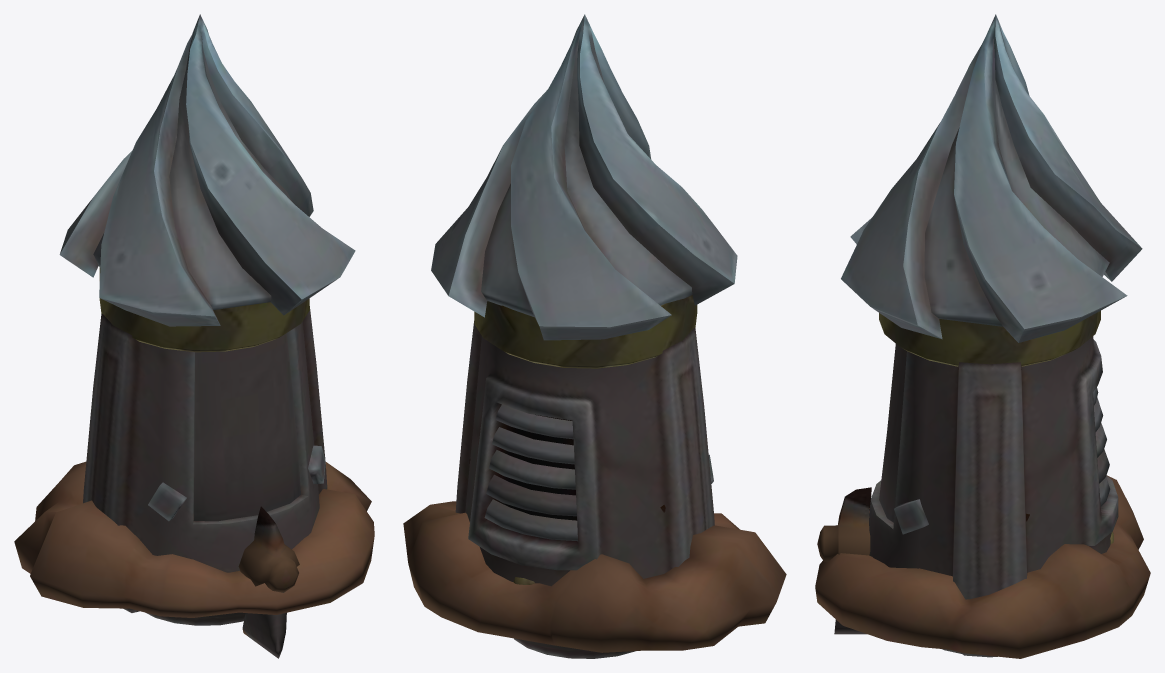
Rendered from dark-iron-miner.glb.
3 views of the same model, side by side, from view 1: azimuth 30°, elevation 25°; view 2: azimuth 150°, elevation 25°; view 3: azimuth 270°, elevation 25° (orthographic). The views are drawn at different scales.
Parts seen in each view (by area): view 1: dark-iron-miner; view 2: dark-iron-miner; view 3: dark-iron-miner.
Boxes of the visible parts, x1,y1,x2,y2 form: dark-iron-miner: (14,14,374,658); dark-iron-miner: (403,14,786,658); dark-iron-miner: (815,14,1150,658).
Size of the model in its own units: 4.14 by 6.94 by 3.41.
Materials: 1 (1 with a texture image).
